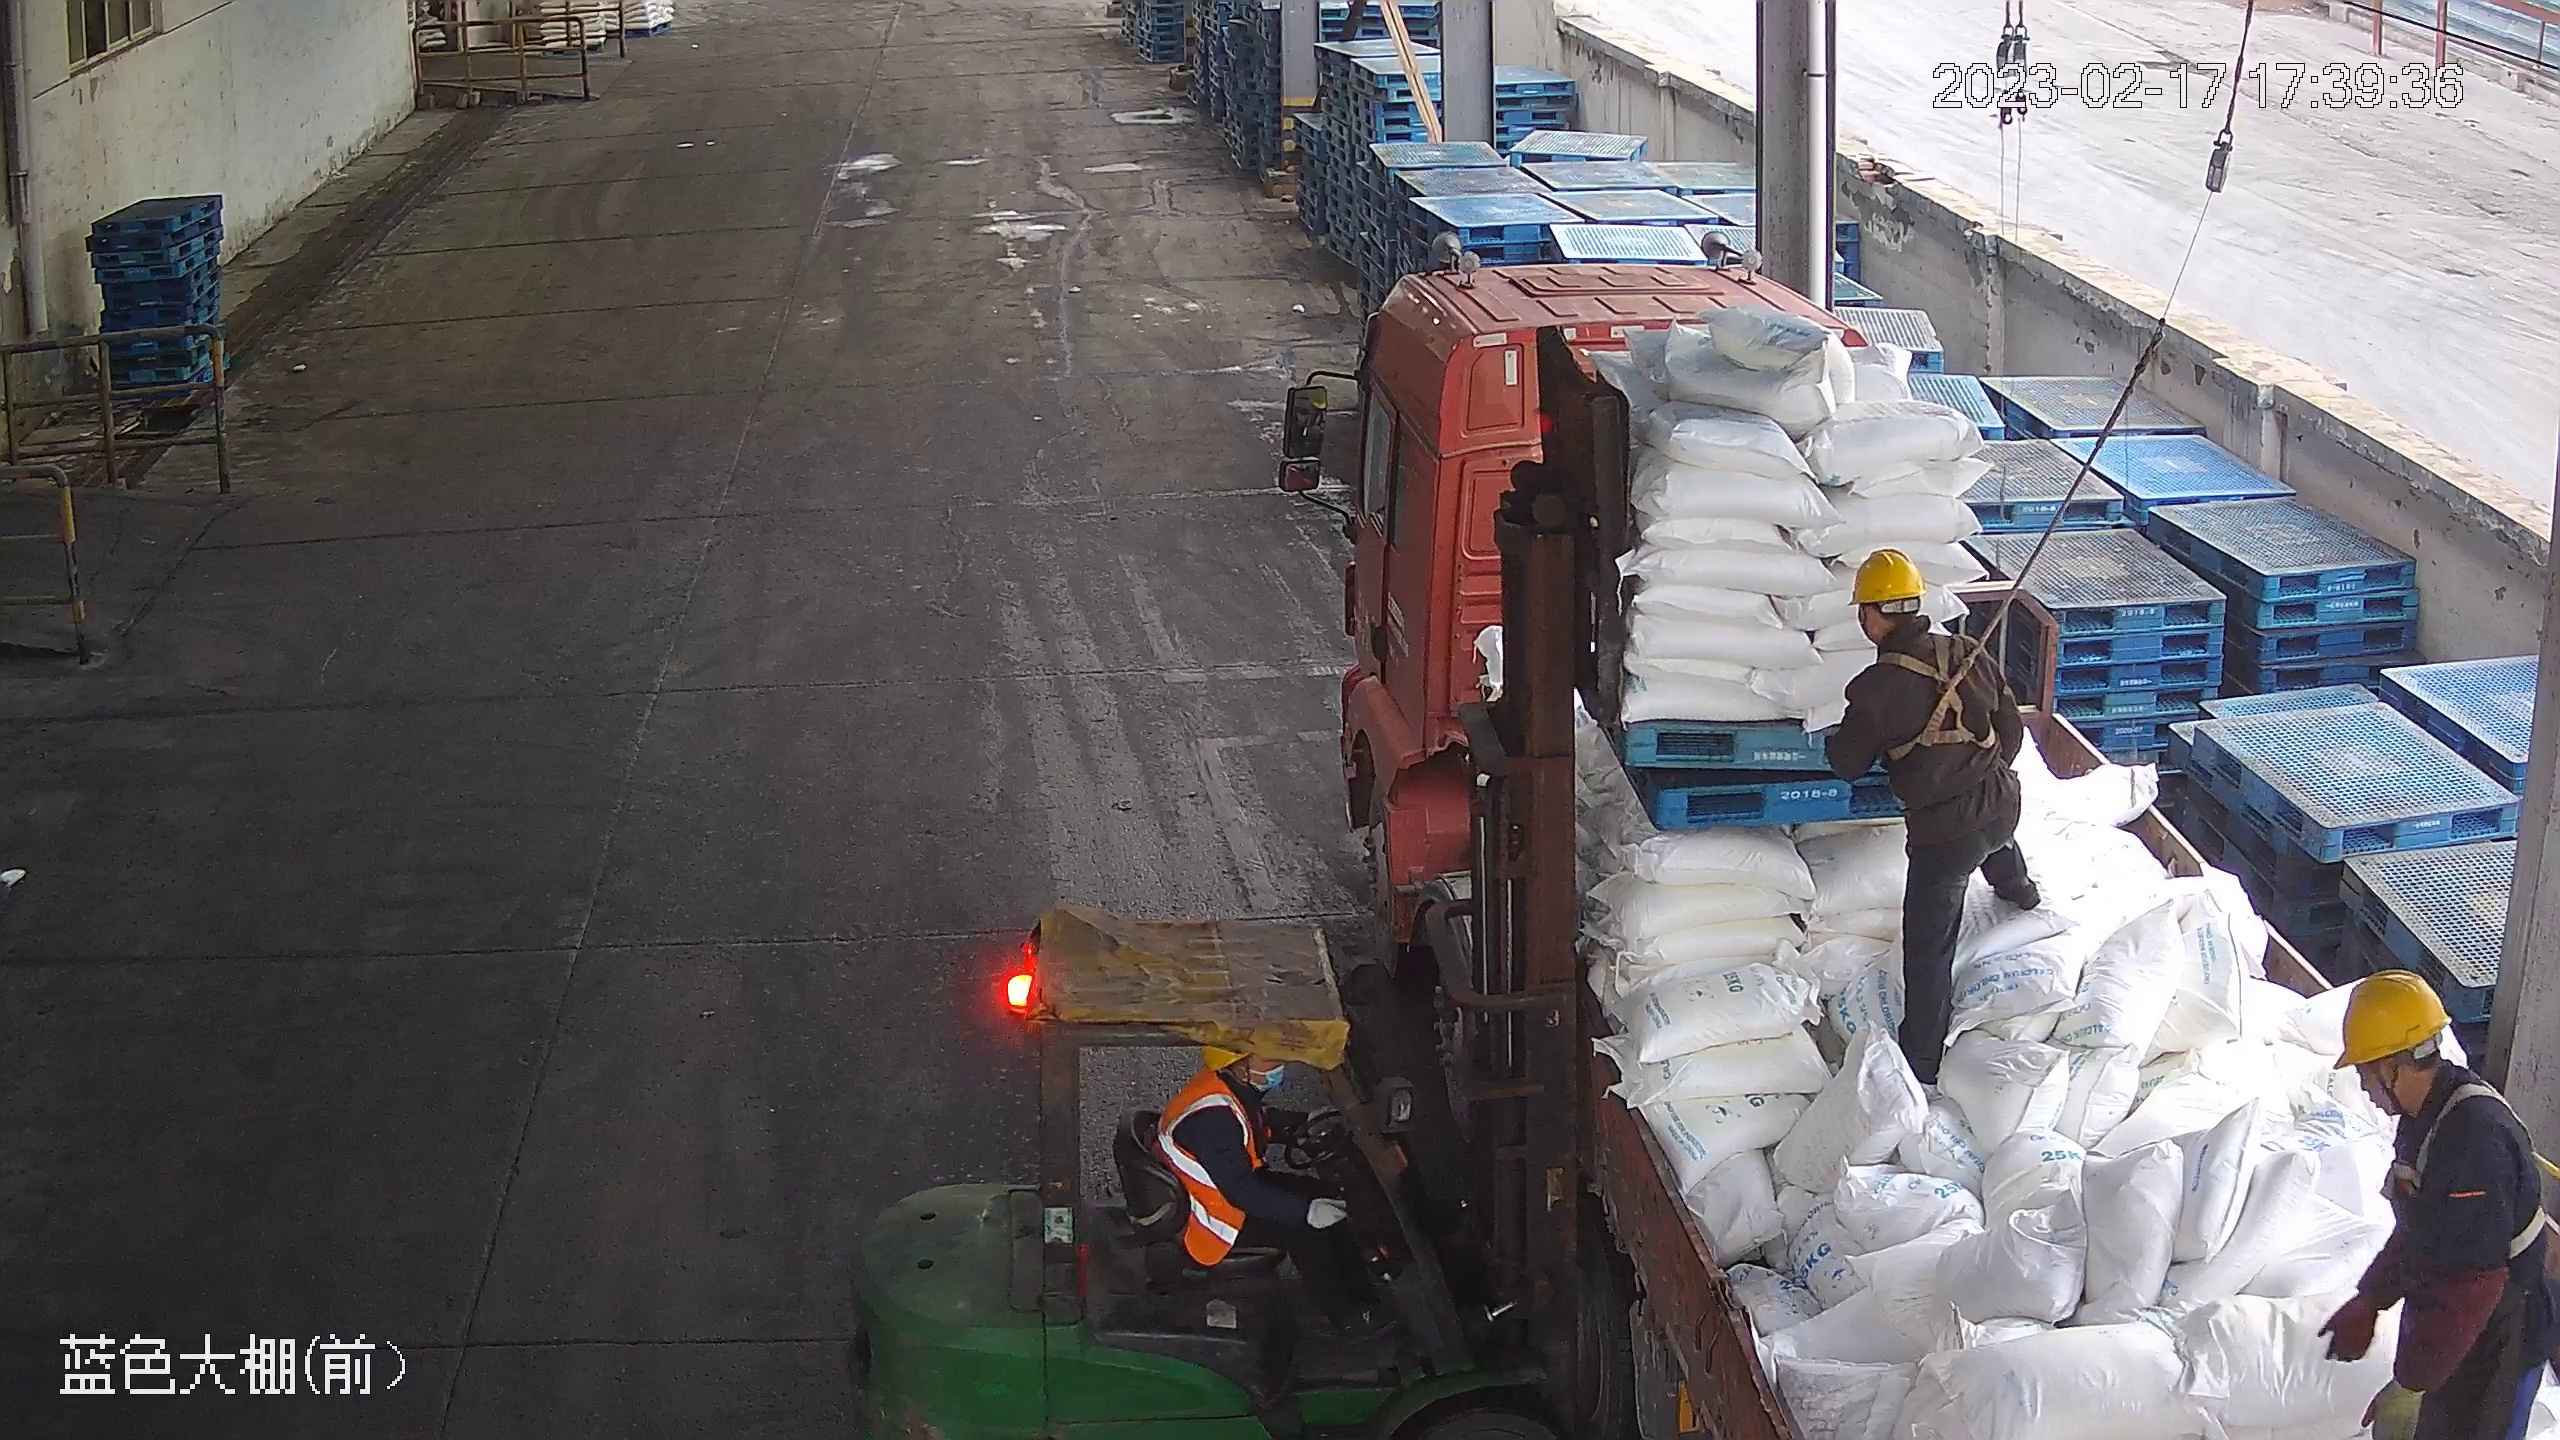belt: (2394, 1072, 2560, 1239), (1882, 626, 2002, 759)
head: (2325, 971, 2539, 1190), (1839, 546, 1996, 718)
helmet: (2330, 967, 2450, 1068), (1845, 545, 1925, 606)
people: (1824, 549, 2044, 1089), (2314, 962, 2555, 1434), (1150, 1040, 1393, 1347)
truck: (1278, 226, 2560, 1433)
